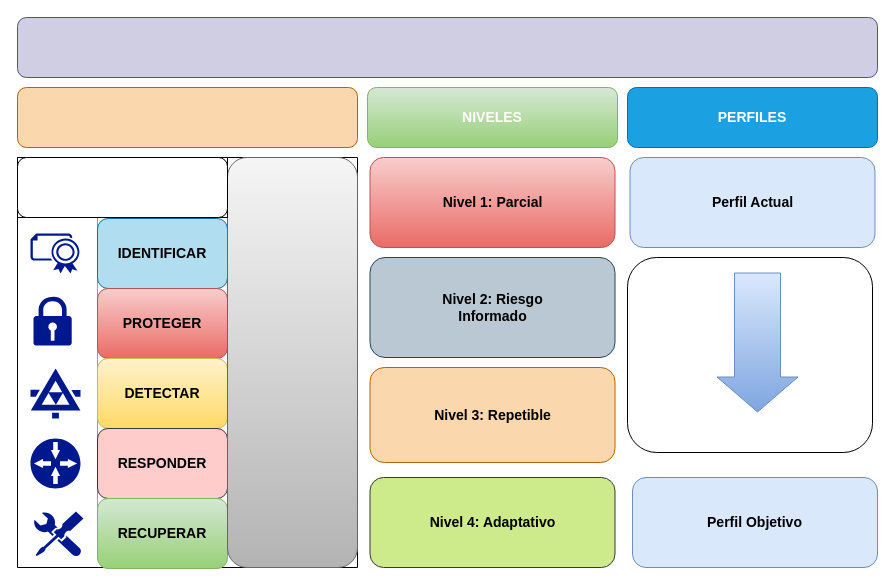
Image size: 895x586. Some labels were removed from this diagram. Here are the shapes that lost their labels. From the top down, the box of each, then its label:
(16, 16, 878, 78): MARCO DE TRABAJO BASADO EN NIST
(16, 86, 358, 148): PROCESO INICIAL
(16, 156, 228, 218): FUNCIONES
(226, 156, 358, 568): Categorias SubCategorias Referencias Informativas
(626, 256, 872, 452): PLAN DE ACCION
